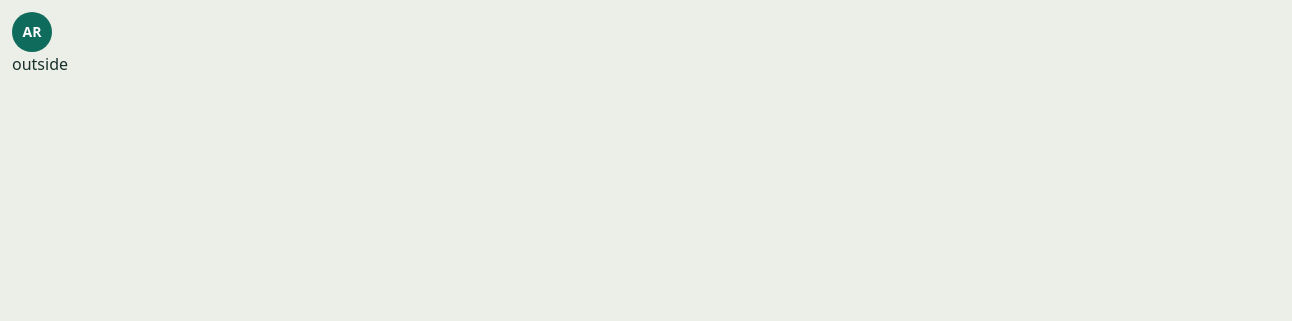
Test: account menu › lists name, email, Settings, Trust, a divider and Sign out
Click the button "AR" at x=32, y=32, box 12,12 -> 52,52
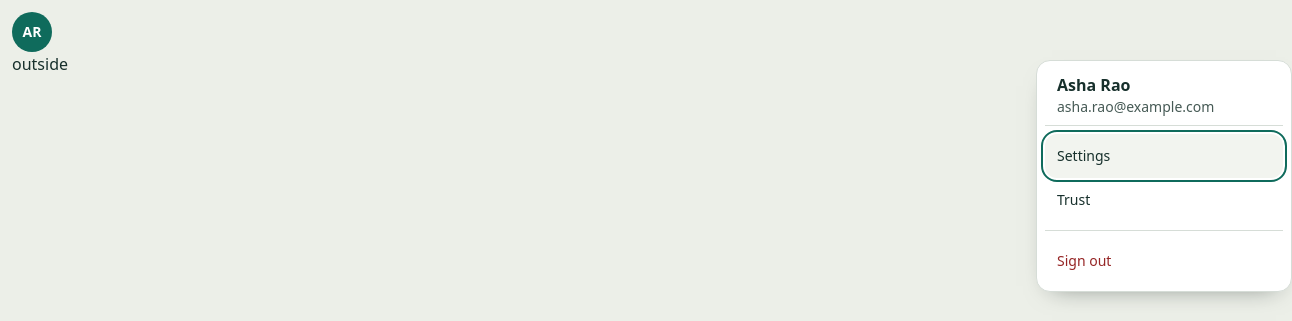
Check: the text "Asha Rao" is shown, box 1057,74 -> 1130,96
Check: the text "asha.rao@example.com" is shown, box 1057,97 -> 1214,116
